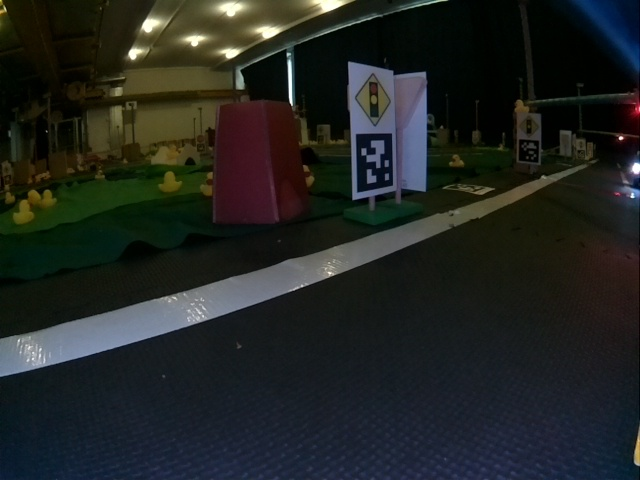Duckie: (13, 201, 34, 225), (158, 172, 180, 189), (302, 166, 313, 188), (201, 172, 212, 193), (449, 154, 464, 168), (516, 100, 526, 109), (97, 171, 105, 178)
QR code: (357, 135, 392, 191), (445, 182, 494, 194), (519, 143, 539, 163)
Signal sign: (356, 72, 392, 125), (519, 117, 539, 138)
